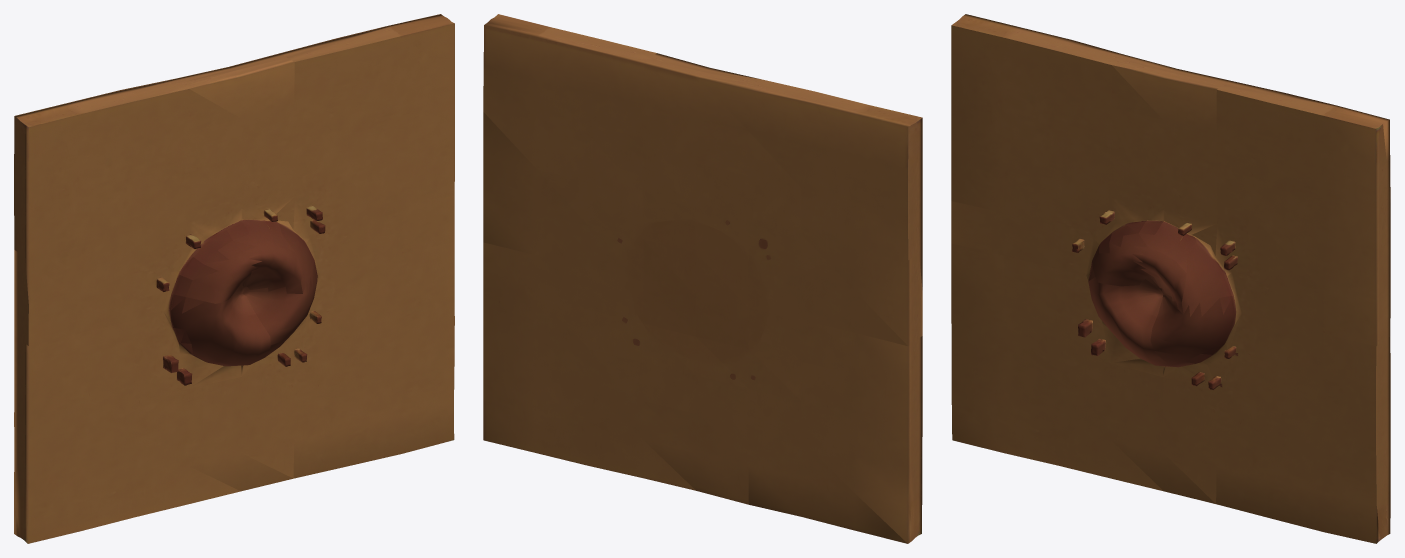
Rendered from planting_mound.glb.
The picture shows the model from 3 angles, left to right: view 1: azimuth 30°, elevation 25°; view 2: azimuth 150°, elevation 25°; view 3: azimuth 330°, elevation 25°; orthographic projection.
Visible parts, largest first — view 1: mesh_node; view 2: mesh_node; view 3: mesh_node.
Part boxes in pixels (x1,y1,x2,y2): mesh_node: (14, 14, 454, 543); mesh_node: (483, 14, 922, 543); mesh_node: (951, 14, 1390, 543).
Bounding box in the file's own units: 1 × 0.9395 × 0.145.
1 material, 1 textured.
